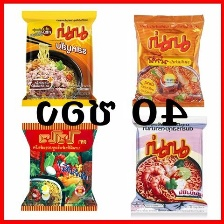snack: (17, 6, 102, 111), (126, 112, 211, 216), (15, 117, 103, 214), (127, 9, 210, 110)
